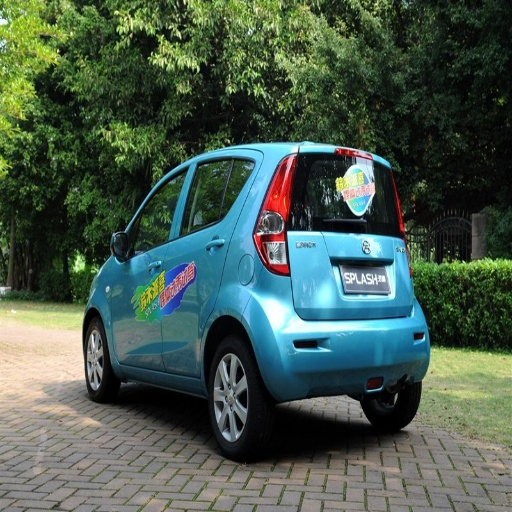back_bumper: (243, 271, 431, 402)
back_glass: (295, 154, 388, 216)
back_left_door: (163, 161, 229, 373)
tailgate: (288, 207, 402, 316)
trunk: (289, 216, 353, 273)
